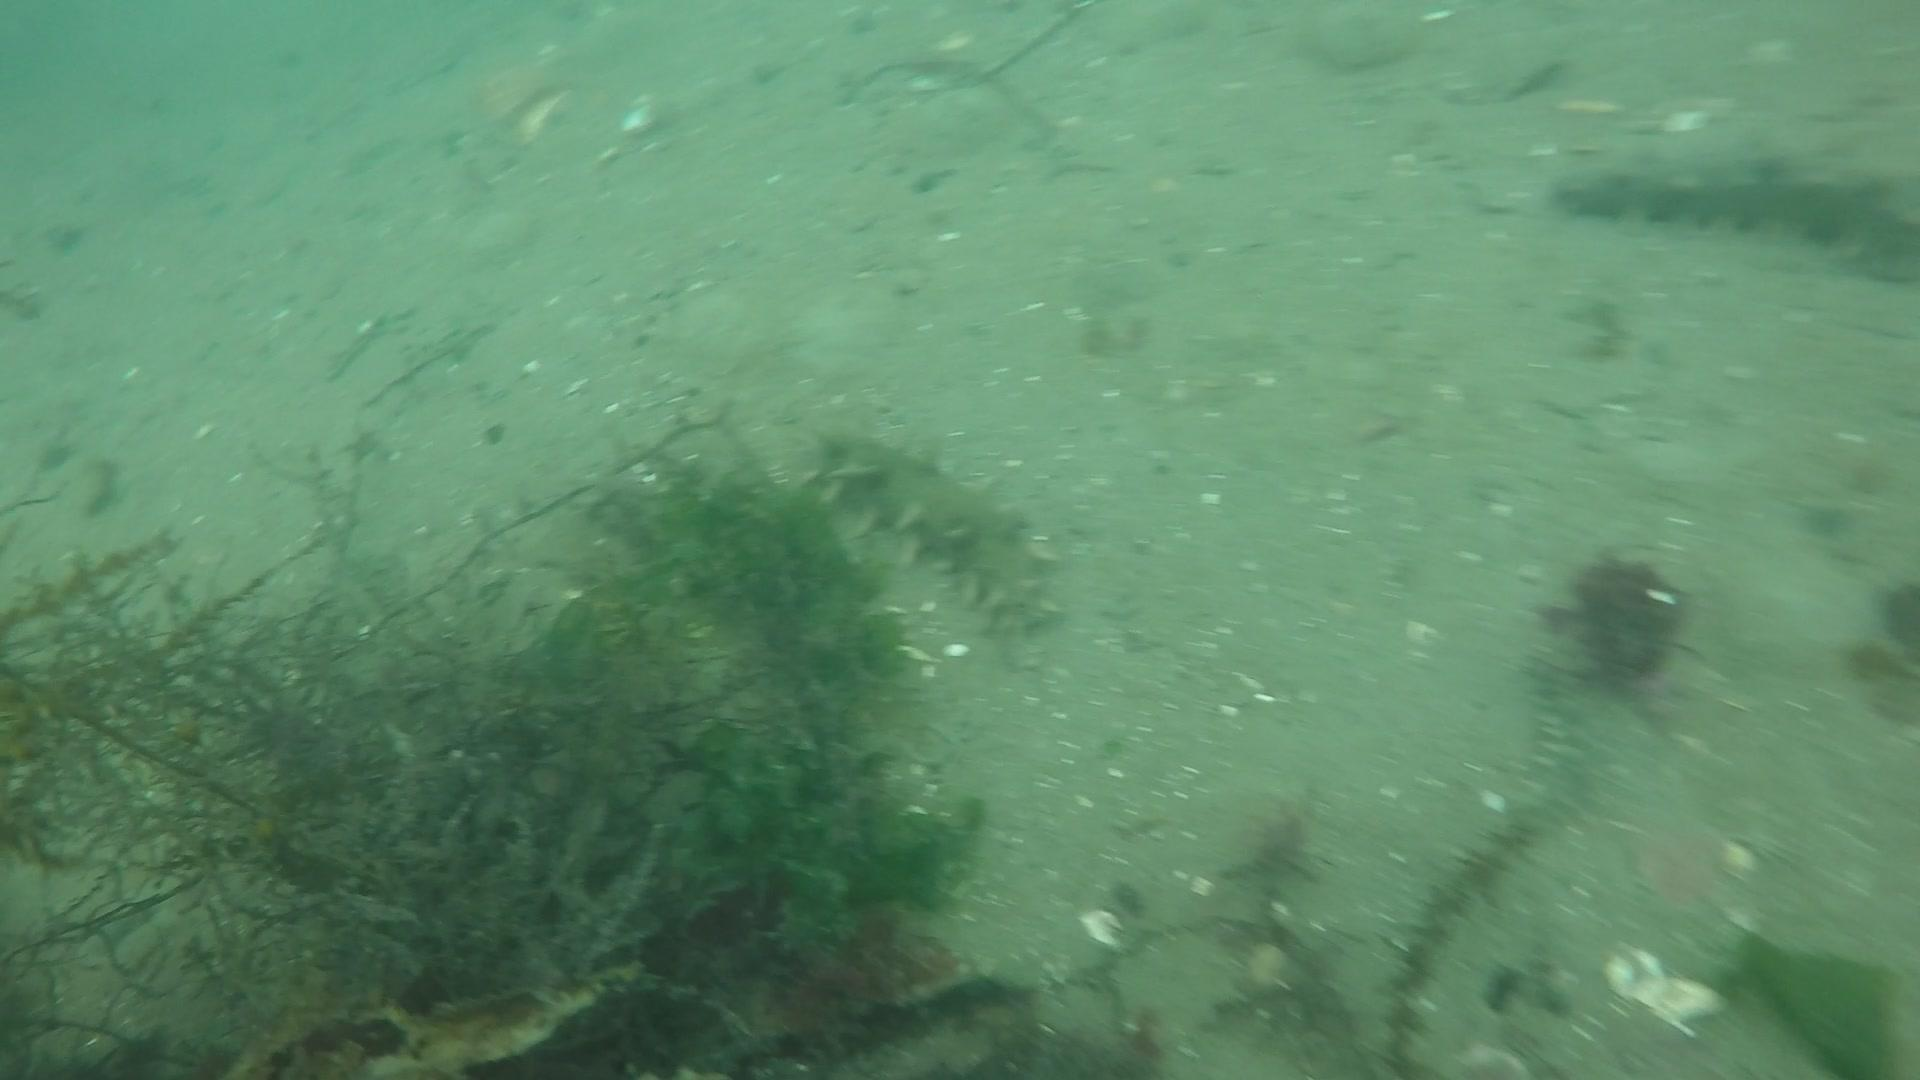holothurian: (796, 419, 1065, 642), (1545, 137, 1920, 290)
scallop: (1596, 934, 1738, 1040)
